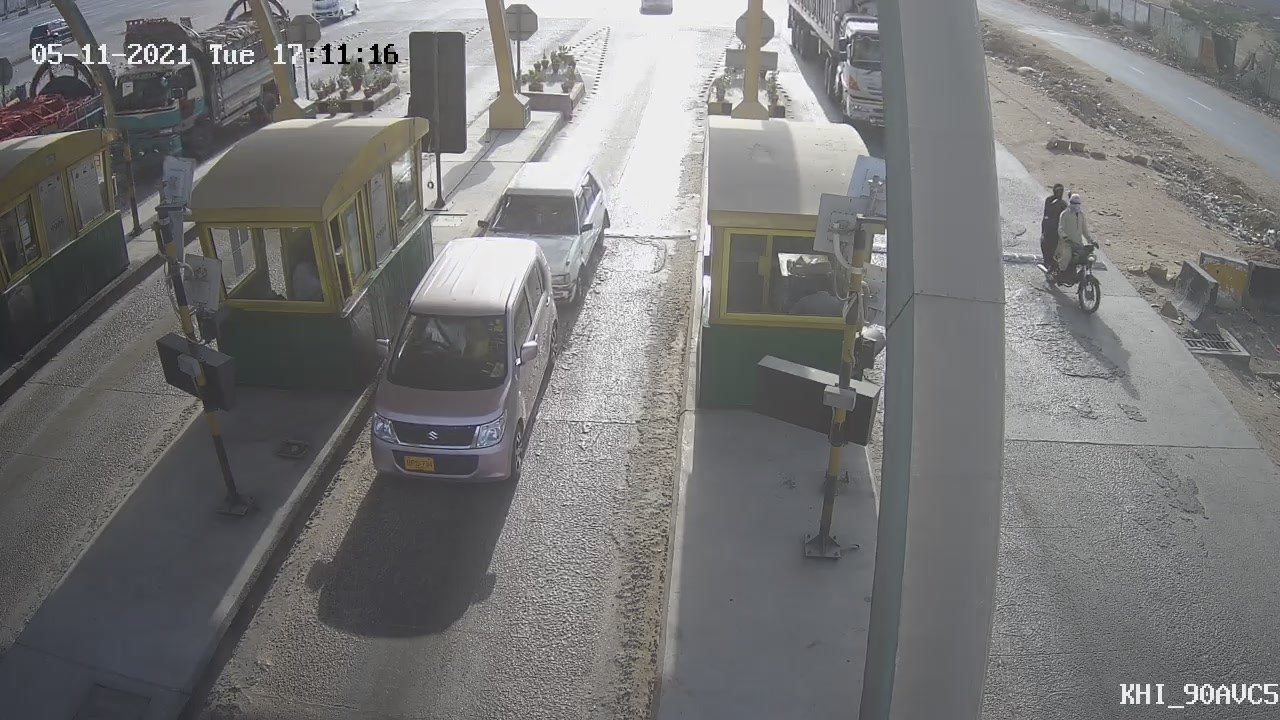F1: (342, 218, 583, 507)
